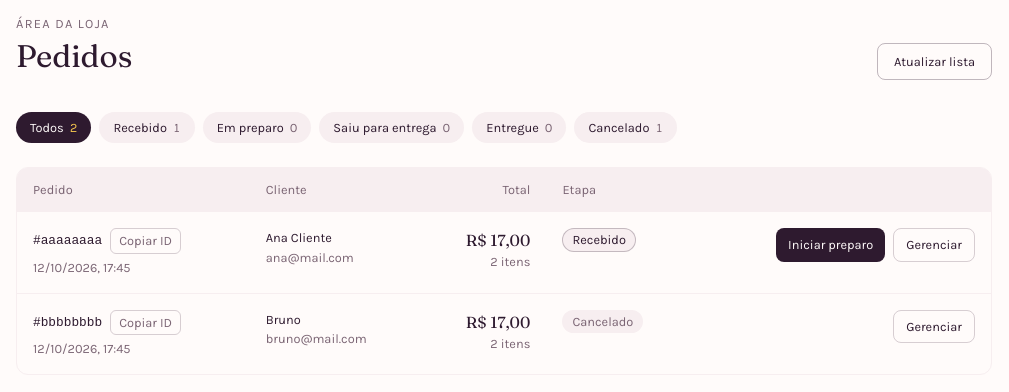
Pedidos da loja › avancar troca a linha pela resposta do servidor
Click the button "Iniciar preparo" at (831, 245), box x1=776 y1=228 x2=885 y2=262
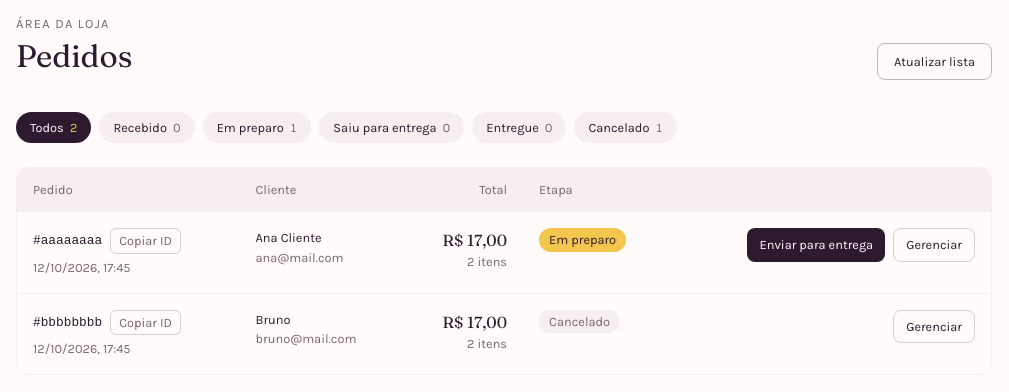
Result: the button "Enviar para entrega" is shown at x1=748 y1=228 x2=885 y2=262
Result: the text "Em preparo" is shown at x1=539 y1=228 x2=626 y2=252
